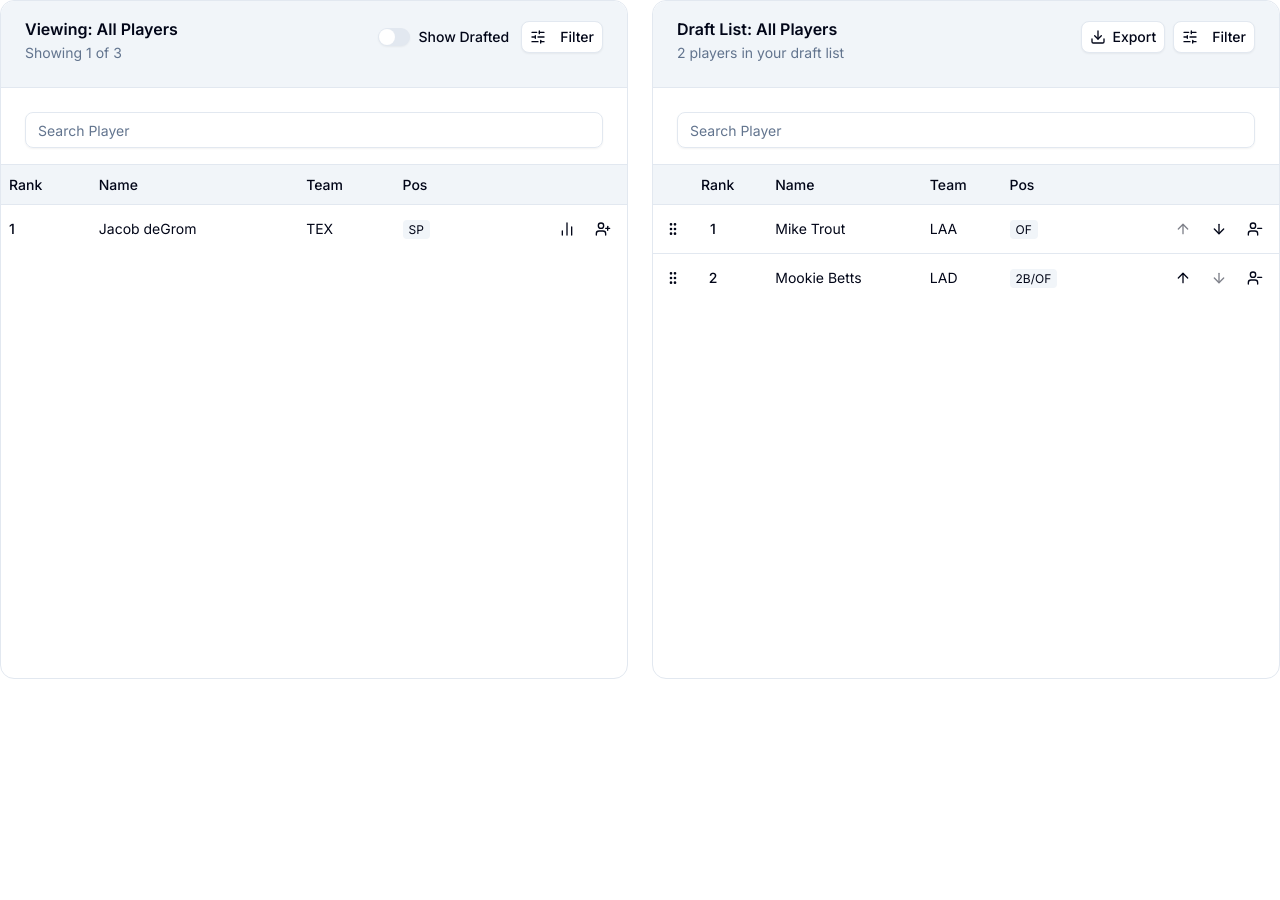
DraftListBuilder › rank move popover functionality › should open popover with player list when rank button clicked
This screenshot has width=1280, height=900.
Step 1. Click the button "1" → (713, 229), box x1=701 y1=217 x2=725 y2=241
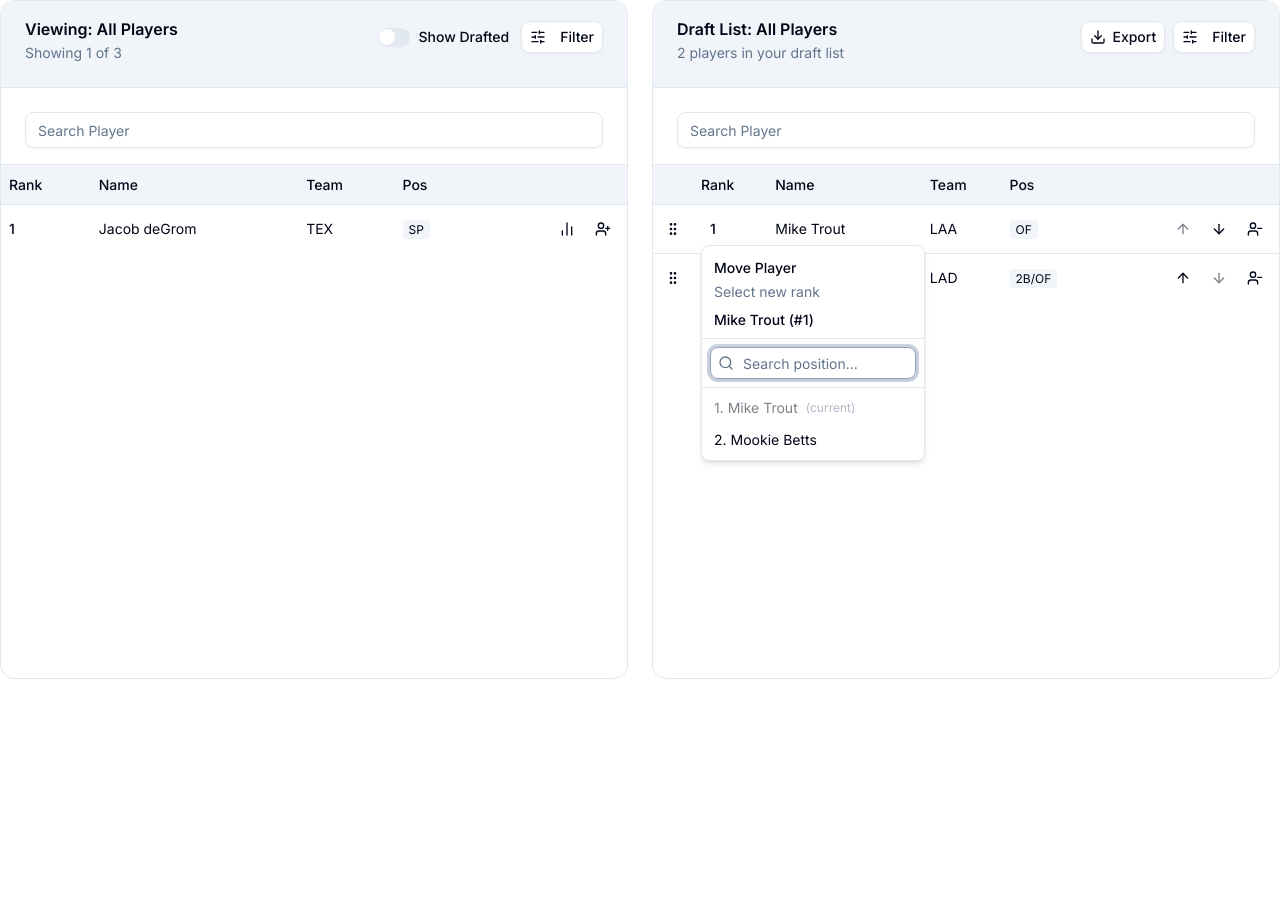
Result: the text "Move Player" is shown at x1=714 y1=259 x2=796 y2=276
Result: the field with placeholder "Search position..." is shown at x1=710 y1=347 x2=916 y2=379
Result: the button "1. Mike Trout (current)" is shown at x1=706 y1=392 x2=920 y2=424
